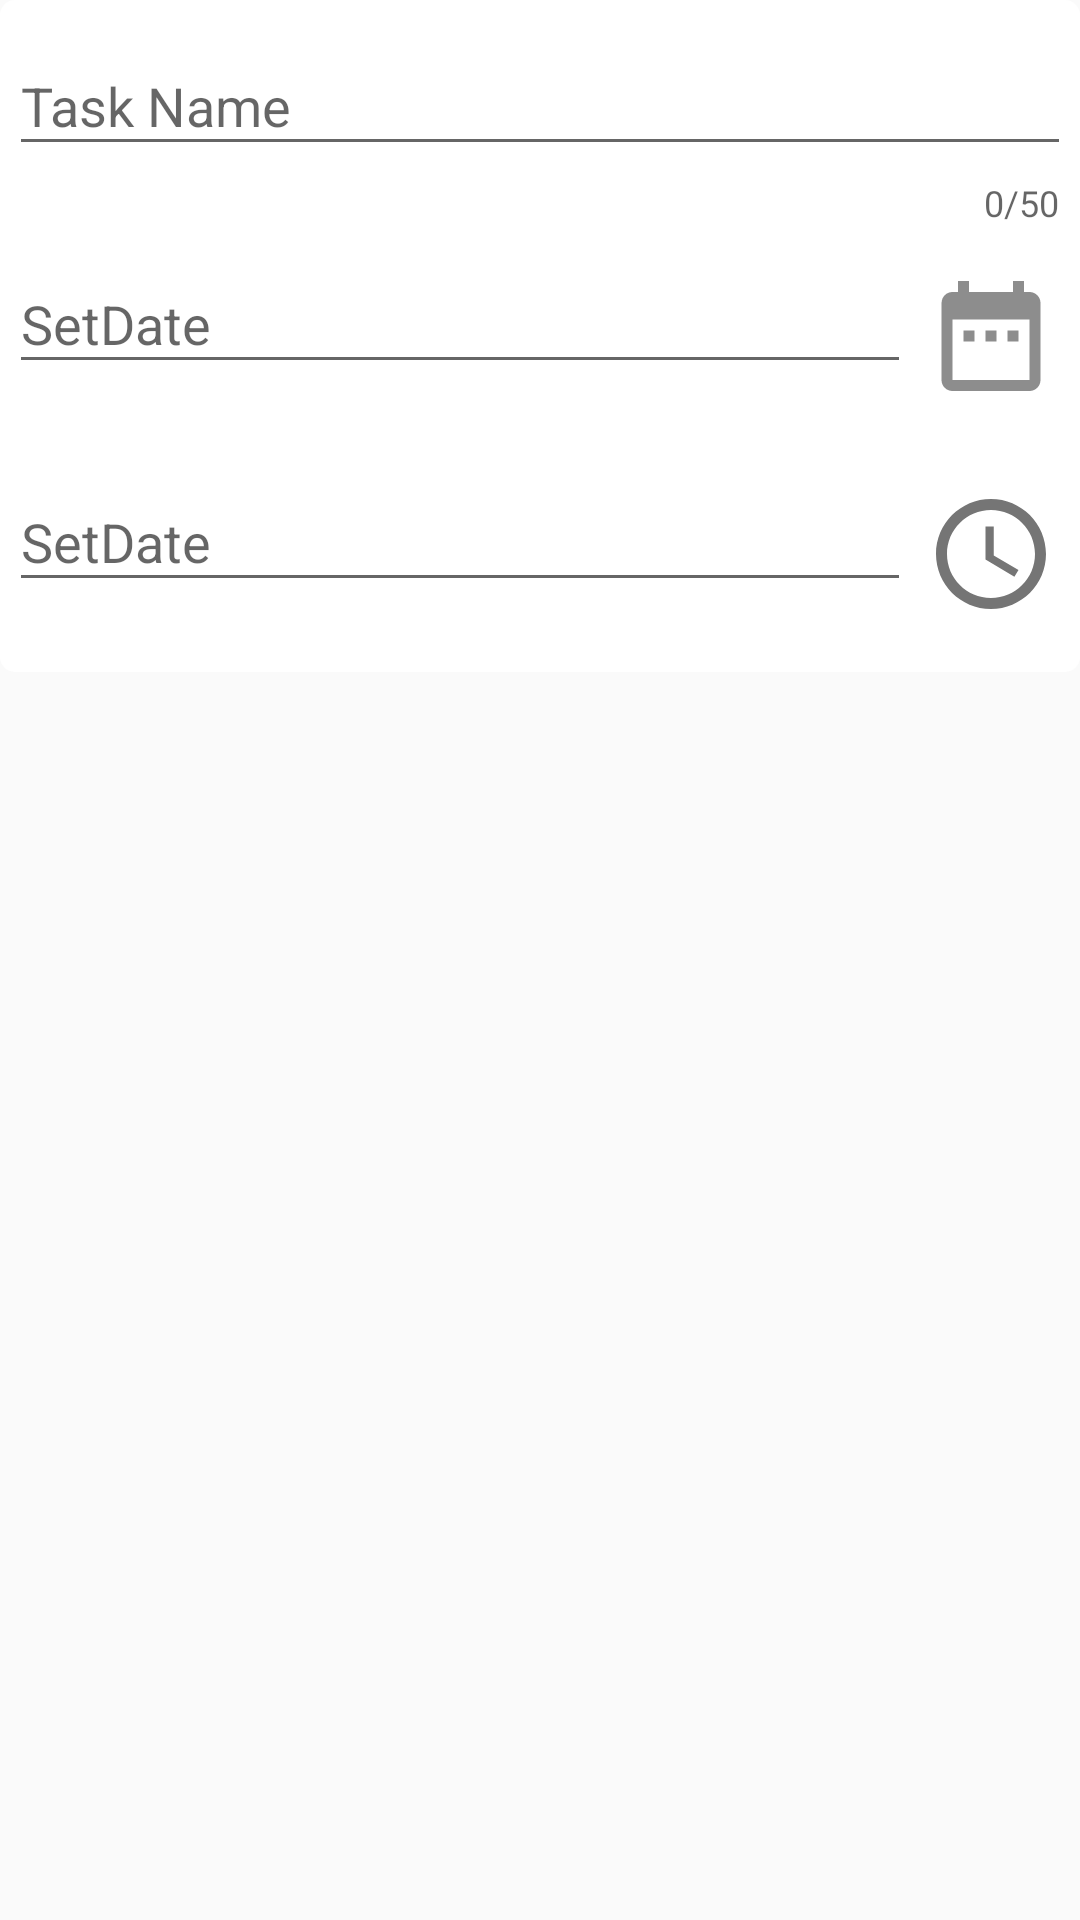

Icon click points for this 1080w x 1920h phone screenshot, format (x,y):
dateicon: (991,336)
timeicon: (991,554)
